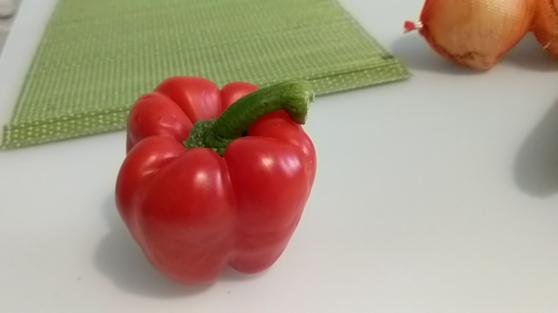pepper: (114, 72, 318, 286)
